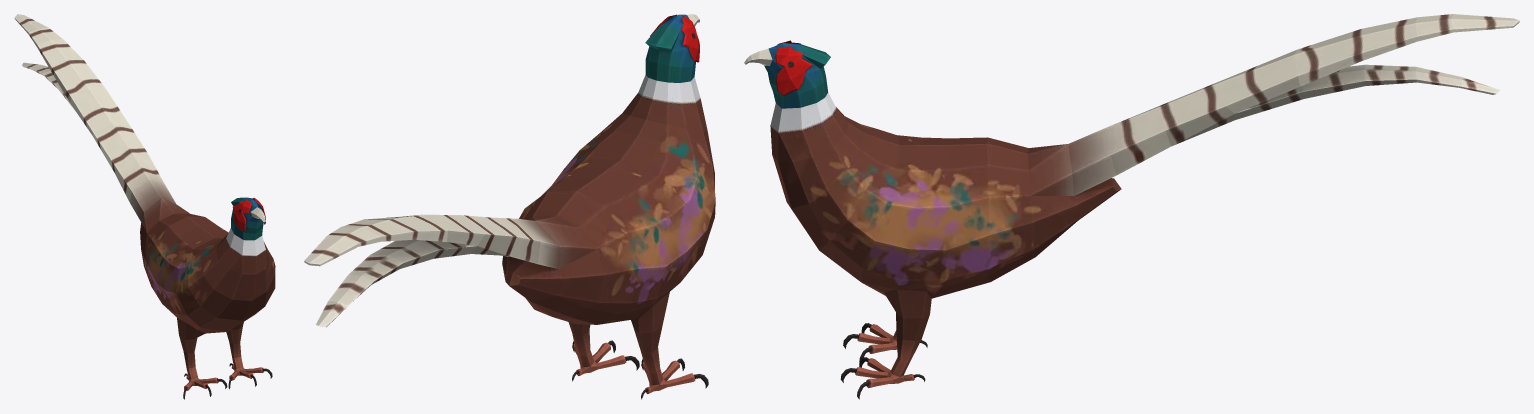
File: 1wqLCnNFCgv.glb
The picture shows the model from 3 angles, left to right: view 1: azimuth 30°, elevation 25°; view 2: azimuth 150°, elevation 25°; view 3: azimuth 270°, elevation 25°; orthographic projection. The views are drawn at different scales.
Parts seen in each view (by area): view 1: PheasantsRingNecked_mesh; view 2: PheasantsRingNecked_mesh; view 3: PheasantsRingNecked_mesh.
Boxes of the visible parts, bbox=[...] form: PheasantsRingNecked_mesh: bbox=[14, 14, 275, 399]; PheasantsRingNecked_mesh: bbox=[304, 14, 715, 399]; PheasantsRingNecked_mesh: bbox=[744, 14, 1519, 399].
Size of the model in its own units: 0.4388 by 1 by 2.01.
Materials: 1 (1 with a texture image).
